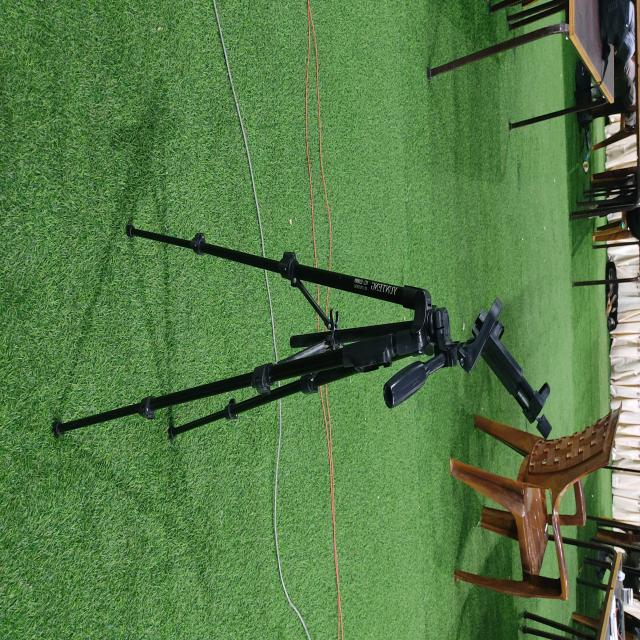Camer Stand: (51, 220, 552, 445)
Chair: (449, 400, 622, 602)
